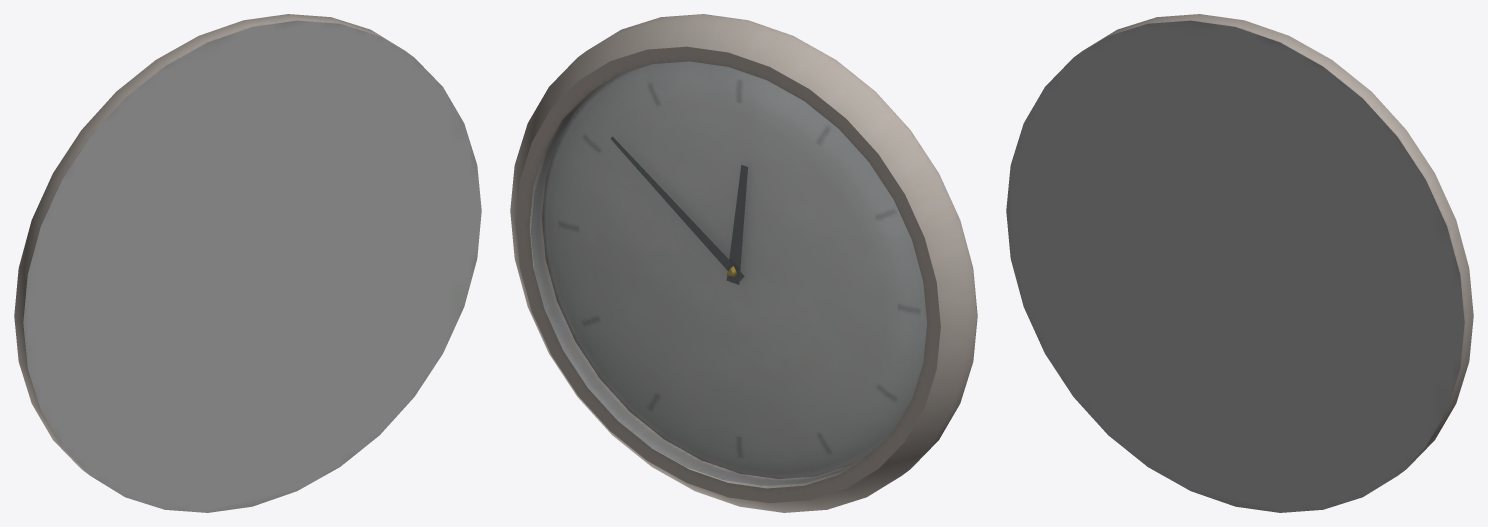
File: props_spytech_wall_clock.glb
The picture shows the model from 3 angles, left to right: view 1: azimuth 30°, elevation 25°; view 2: azimuth 150°, elevation 25°; view 3: azimuth 330°, elevation 25°; orthographic projection.
Visible parts, largest first — view 1: models/props_spytech/wall_clock; view 2: models/props_spytech/wall_clock; view 3: models/props_spytech/wall_clock.
Boxes of the visible parts, left/top/right/bottom form: models/props_spytech/wall_clock: left=14, top=14, right=481, bottom=512; models/props_spytech/wall_clock: left=510, top=14, right=977, bottom=512; models/props_spytech/wall_clock: left=1006, top=14, right=1473, bottom=512.
Size of the model in its own units: 31.79 by 31.79 by 3.67.
2 materials, 2 textured.
